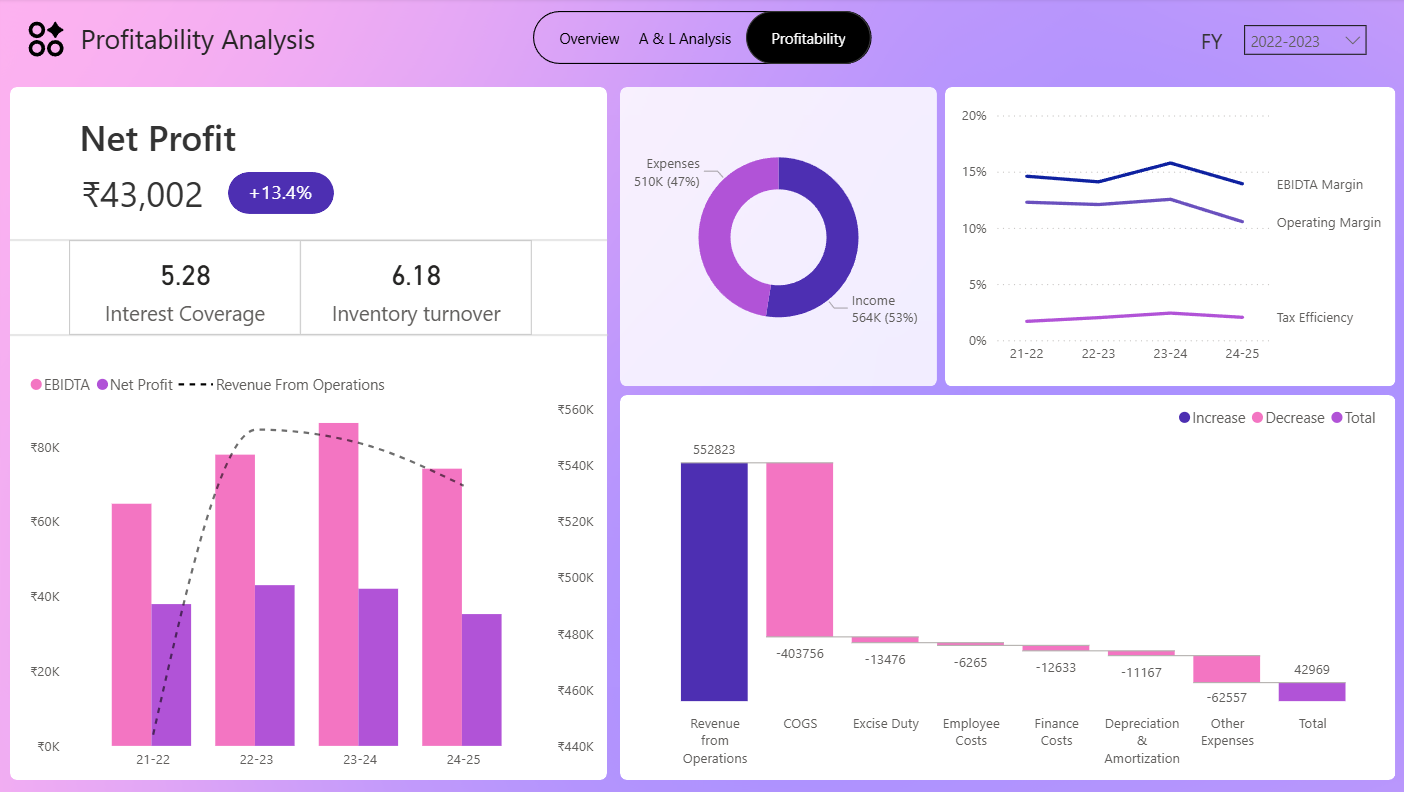

Layout of this report page (visuals, bound fields, positions):
{"tool":"powerbi","page":{"name":"Profitability Analysis","canvas":[1280,720],"ordinal":2},"visuals":[{"type":"image","box":[4.5,0,1275.2,720],"z":0},{"type":"shape","box":[487.2,11.8,306.7,48],"z":1000,"group":"g1"},{"type":"shape","box":[566.2,80.9,287.1,271.1],"z":1000},{"type":"actionButton","box":[486.3,11.8,104,48],"z":2000,"group":"g1"},{"type":"shape","box":[565.9,359.7,702.3,348.6],"z":2000},{"type":"slicer","fields":{"Values":["Date Dim.FY"]},"box":[1121.4,14.2,131,44.4],"z":3000},{"type":"actionButton","box":[574.1,12.7,101.4,47.1],"z":4000,"group":"g1"},{"type":"textbox","box":[72,15.1,269.3,44.4],"z":4000},{"type":"group","id":"g1","title":"Group 1","box":[486.3,11.8,307.6,48],"z":5000},{"type":"actionButton","box":[680.1,11.8,113.2,48],"z":6000,"group":"g1"},{"type":"shape","box":[13.6,80.6,540.7,627.6],"z":6000},{"type":"lineClusteredColumnComboChart","fields":{"Y":["_PL.EBIDTA","_PL.Net Profit"],"Y2":["_PL.Revenue From Operations"],"Category":["Date Dim.FY Short"]},"box":[26.6,330,521.1,378],"z":7000},{"type":"group","id":"g2","title":"Group 3","box":[67,219.2,419.3,86],"z":8000},{"type":"card","fields":{"Values":["_Margin Ratios.Inventory turnover"]},"box":[276.2,219.2,210.1,86],"z":8000,"group":"g2"},{"type":"group","id":"g3","title":"Group 4","box":[68.9,98.7,333.3,102.1],"z":9000},{"type":"card","fields":{"Values":["_Margin Ratios.Interest Coverage"]},"box":[67,219.2,210.1,86],"z":9000,"group":"g2"},{"type":"shape","box":[13.7,289.7,541.7,30.9],"z":10000},{"type":"card","fields":{"Values":["_PL.Net Profit"]},"box":[68.9,153.9,129.5,46.2],"z":11000,"group":"g3"},{"type":"shape","box":[13.7,204,540.9,30.9],"z":11000},{"type":"textbox","box":[1075.9,20.8,51.6,39.8],"z":12000},{"type":"textbox","box":[71.6,98.7,330.6,55.2],"z":12000,"group":"g3"},{"type":"group","id":"g4","title":"Group 2","box":[206.3,155.3,103.1,45.5],"z":13000,"group":"g3"},{"type":"waterfallChart","fields":{"Category":["PL Waterfall Table.Item"],"Y":["_PL.Waterfall Value"]},"box":[573,359.7,687.2,344.6],"z":13000},{"type":"shape","box":[210.9,157.8,96,38],"z":13500,"group":"g4"},{"type":"donutChart","fields":{"Y":["Sum(PL Fact.Amt)"],"Category":["PL Item Dim.Type"]},"box":[566.2,112,287.1,208.9],"z":14000},{"type":"shape","box":[860.4,80.9,408,271.1],"z":15000},{"type":"lineChart","fields":{"Y":["_Margin Ratios.Operating Margin","_Margin Ratios.EBIDTA Margin","_Margin Ratios.Tax Efficiency"],"Category":["Date Dim.FY Short"]},"box":[870.1,92,390.1,247.6],"z":16000},{"type":"card","fields":{"Values":["_PL.Increase In NP"]},"box":[206.3,155.3,103.1,45.5],"z":16000,"group":"g4"},{"type":"image","box":[26.7,16.9,40,40],"z":17000}]}

Visuals, with their boxes in screenshot pixels (x1, y1, x2, y2), scaled from the page's 1280x720 canvas onto the 1404x792 screenshot:
image: box(5, 0, 1403, 791)
shape: box(534, 13, 871, 66)
shape: box(621, 89, 936, 387)
actionButton: box(533, 13, 647, 66)
shape: box(621, 396, 1391, 779)
slicer - Date Dim.FY: box(1230, 16, 1374, 64)
actionButton: box(630, 14, 741, 66)
textbox: box(79, 17, 374, 65)
"Group 1" group: box(533, 13, 871, 66)
actionButton: box(746, 13, 870, 66)
shape: box(15, 89, 608, 779)
lineClusteredColumnComboChart - _PL.EBIDTA x _PL.Net Profit: box(29, 363, 601, 779)
"Group 3" group: box(73, 241, 533, 336)
card - _Margin Ratios.Inventory turnover: box(303, 241, 533, 336)
"Group 4" group: box(76, 109, 441, 221)
card - _Margin Ratios.Interest Coverage: box(73, 241, 304, 336)
shape: box(15, 319, 609, 353)
card - _PL.Net Profit: box(76, 169, 218, 220)
shape: box(15, 224, 608, 258)
textbox: box(1180, 23, 1237, 67)
textbox: box(79, 109, 441, 169)
"Group 2" group: box(226, 171, 339, 221)
waterfallChart - PL Waterfall Table.Item x _PL.Waterfall Value: box(629, 396, 1382, 775)
shape: box(231, 174, 337, 215)
donutChart - Sum(PL Fact.Amt) x PL Item Dim.Type: box(621, 123, 936, 353)
shape: box(944, 89, 1391, 387)
lineChart - _Margin Ratios.Operating Margin x _Margin Ratios.EBIDTA Margin: box(954, 101, 1382, 374)
card - _PL.Increase In NP: box(226, 171, 339, 221)
image: box(29, 19, 73, 63)
